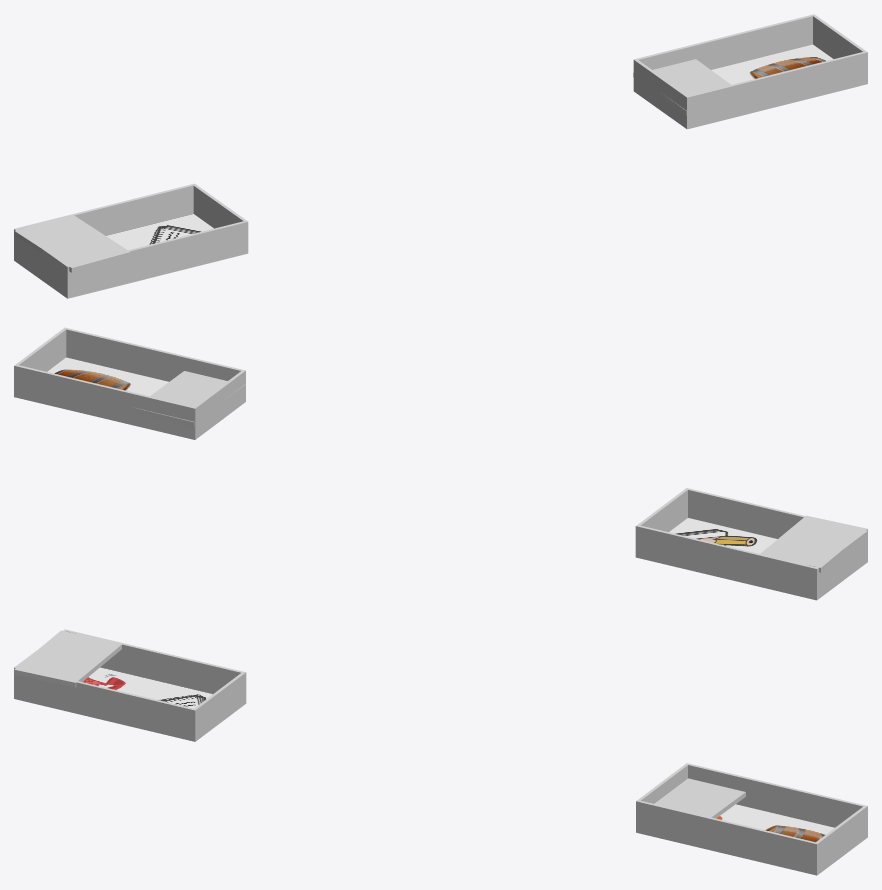
The model's file is bintapadod.dae.
The picture shows the model from 3 angles, top to bottom: view 1: azimuth 30°, elevation 25°; view 2: azimuth 150°, elevation 25°; view 3: azimuth 330°, elevation 25°; orthographic projection.
Parts seen in each view (by area): view 1: Cube.007, Cube.002, Cube.001, Cube.006; view 2: Cube.007, Cube.002, Cube.001, Cube.006; view 3: Cube.007, Cube.002, Cube.001, Cube.006.
Boxes of the visible parts, bbox=[...] form: Cube.007: bbox=[633, 14, 867, 129]; Cube.002: bbox=[14, 183, 248, 298]; Cube.001: bbox=[14, 215, 130, 272]; Cube.006: bbox=[633, 59, 730, 115]; Cube.007: bbox=[14, 327, 245, 439]; Cube.002: bbox=[635, 488, 867, 600]; Cube.001: bbox=[759, 515, 867, 572]; Cube.006: bbox=[134, 371, 245, 426]; Cube.007: bbox=[636, 763, 867, 875]; Cube.002: bbox=[14, 629, 246, 741]; Cube.001: bbox=[14, 630, 121, 687]; Cube.006: bbox=[654, 778, 745, 818].
Bounding box in the file's own units: 2.67 × 0.3469 × 0.1425.
Materials: 4 (2 with a texture image).
